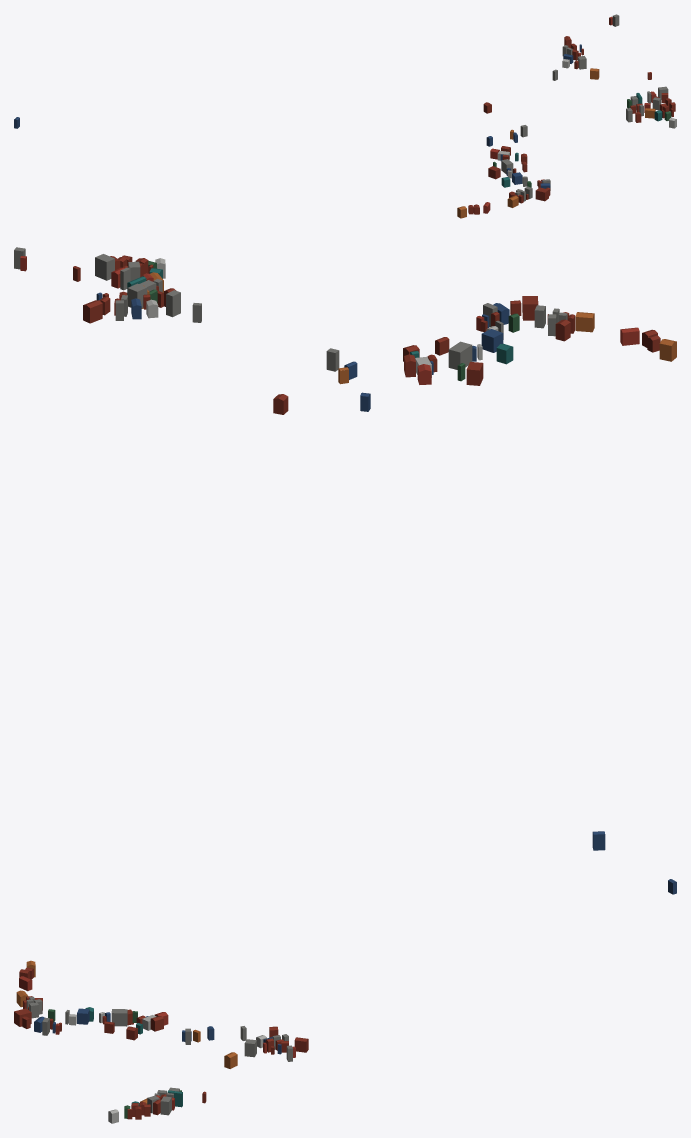
File: near-15-27352-14862.e3fa4dd9.glb
The picture shows the model from 3 angles, top to bottom: view 1: azimuth 30°, elevation 25°; view 2: azimuth 150°, elevation 25°; view 3: azimuth 270°, elevation 25°; orthographic projection. The views are drawn at different scales.
Size of the model in its own units: 1183 by 258 by 1103.
